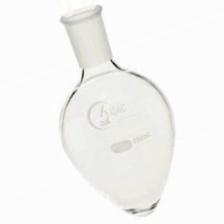Pear shaped flask: (50, 2, 178, 220)
